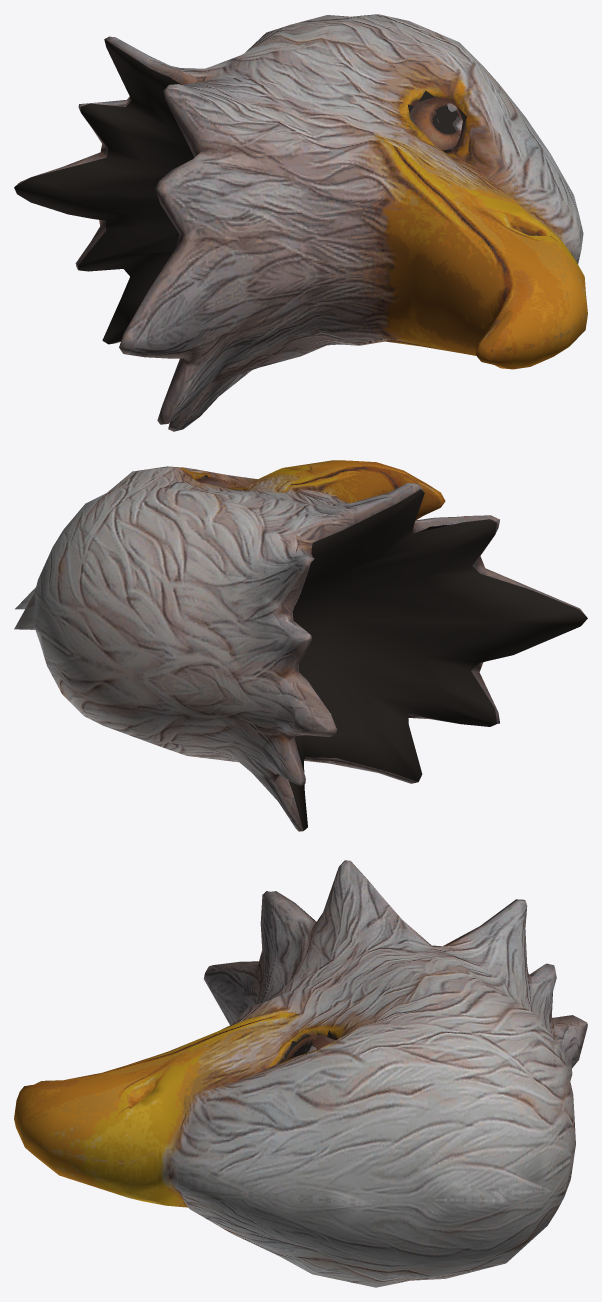
File: F_EagleMask.fbx
3 views of the same model, one above another, from view 1: azimuth 30°, elevation 25°; view 2: azimuth 150°, elevation 25°; view 3: azimuth 270°, elevation 25° (orthographic). The views are drawn at different scales.
Visible parts, largest first — view 1: 24_Mask_0.5_16_16.005; view 2: 24_Mask_0.5_16_16.005; view 3: 24_Mask_0.5_16_16.005.
Boxes of the visible parts, x1,y1,x2,y2 form: 24_Mask_0.5_16_16.005: (14, 14, 587, 431); 24_Mask_0.5_16_16.005: (14, 460, 587, 831); 24_Mask_0.5_16_16.005: (14, 860, 587, 1287).
Bounding box in the file's own units: 0.2285 × 0.1498 × 0.2374.
